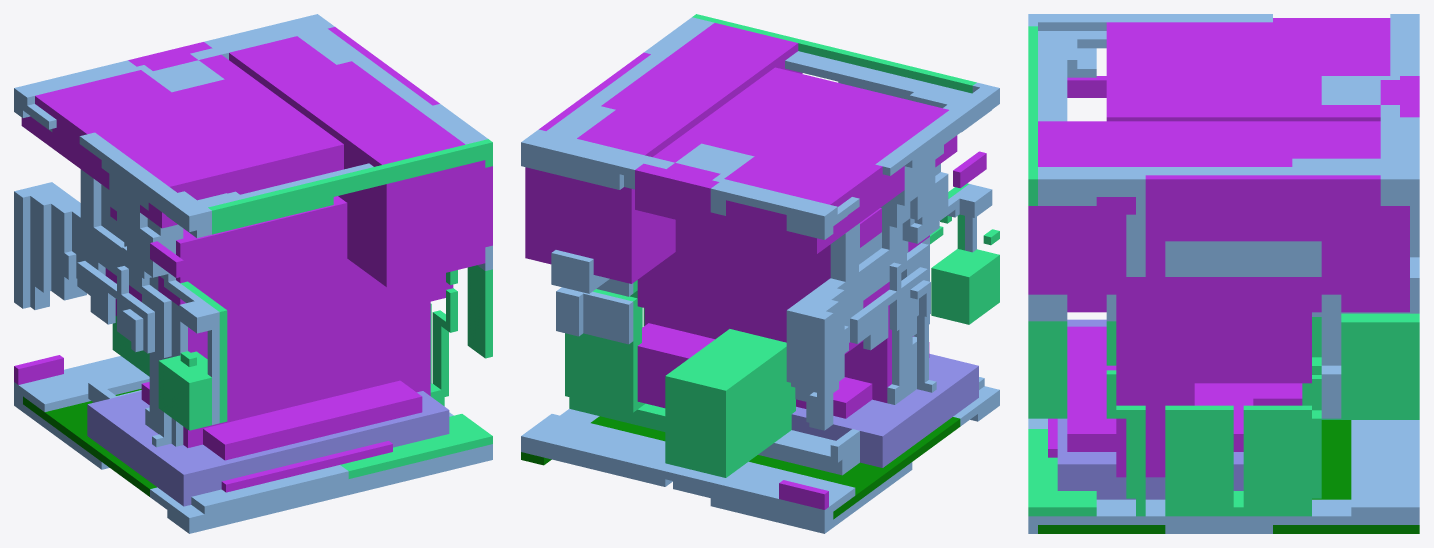
File: cubemix2.glb
The picture shows the model from 3 angles, left to right: view 1: azimuth 30°, elevation 25°; view 2: azimuth 150°, elevation 25°; view 3: azimuth 270°, elevation 25°; orthographic projection. The views are drawn at different scales.
Visible parts, largest first — view 1: Asset3DLoader.sceneRoot; view 2: Asset3DLoader.sceneRoot; view 3: Asset3DLoader.sceneRoot.
Part boxes in pixels (x1=…): Asset3DLoader.sceneRoot: x1=14, y1=14, x2=492, y2=533; Asset3DLoader.sceneRoot: x1=521, y1=14, x2=999, y2=533; Asset3DLoader.sceneRoot: x1=1028, y1=14, x2=1419, y2=533.
Bounding box in the file's own units: 4 × 4 × 4.
1 material, 1 textured.
